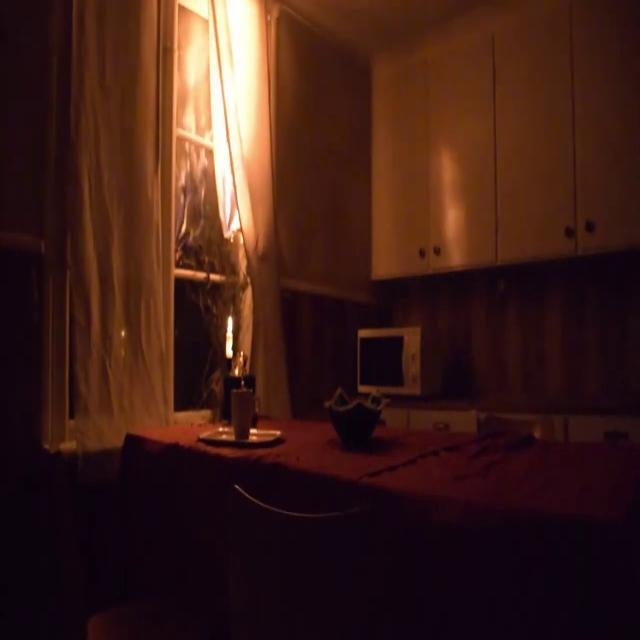Fire: (177, 0, 267, 244)
